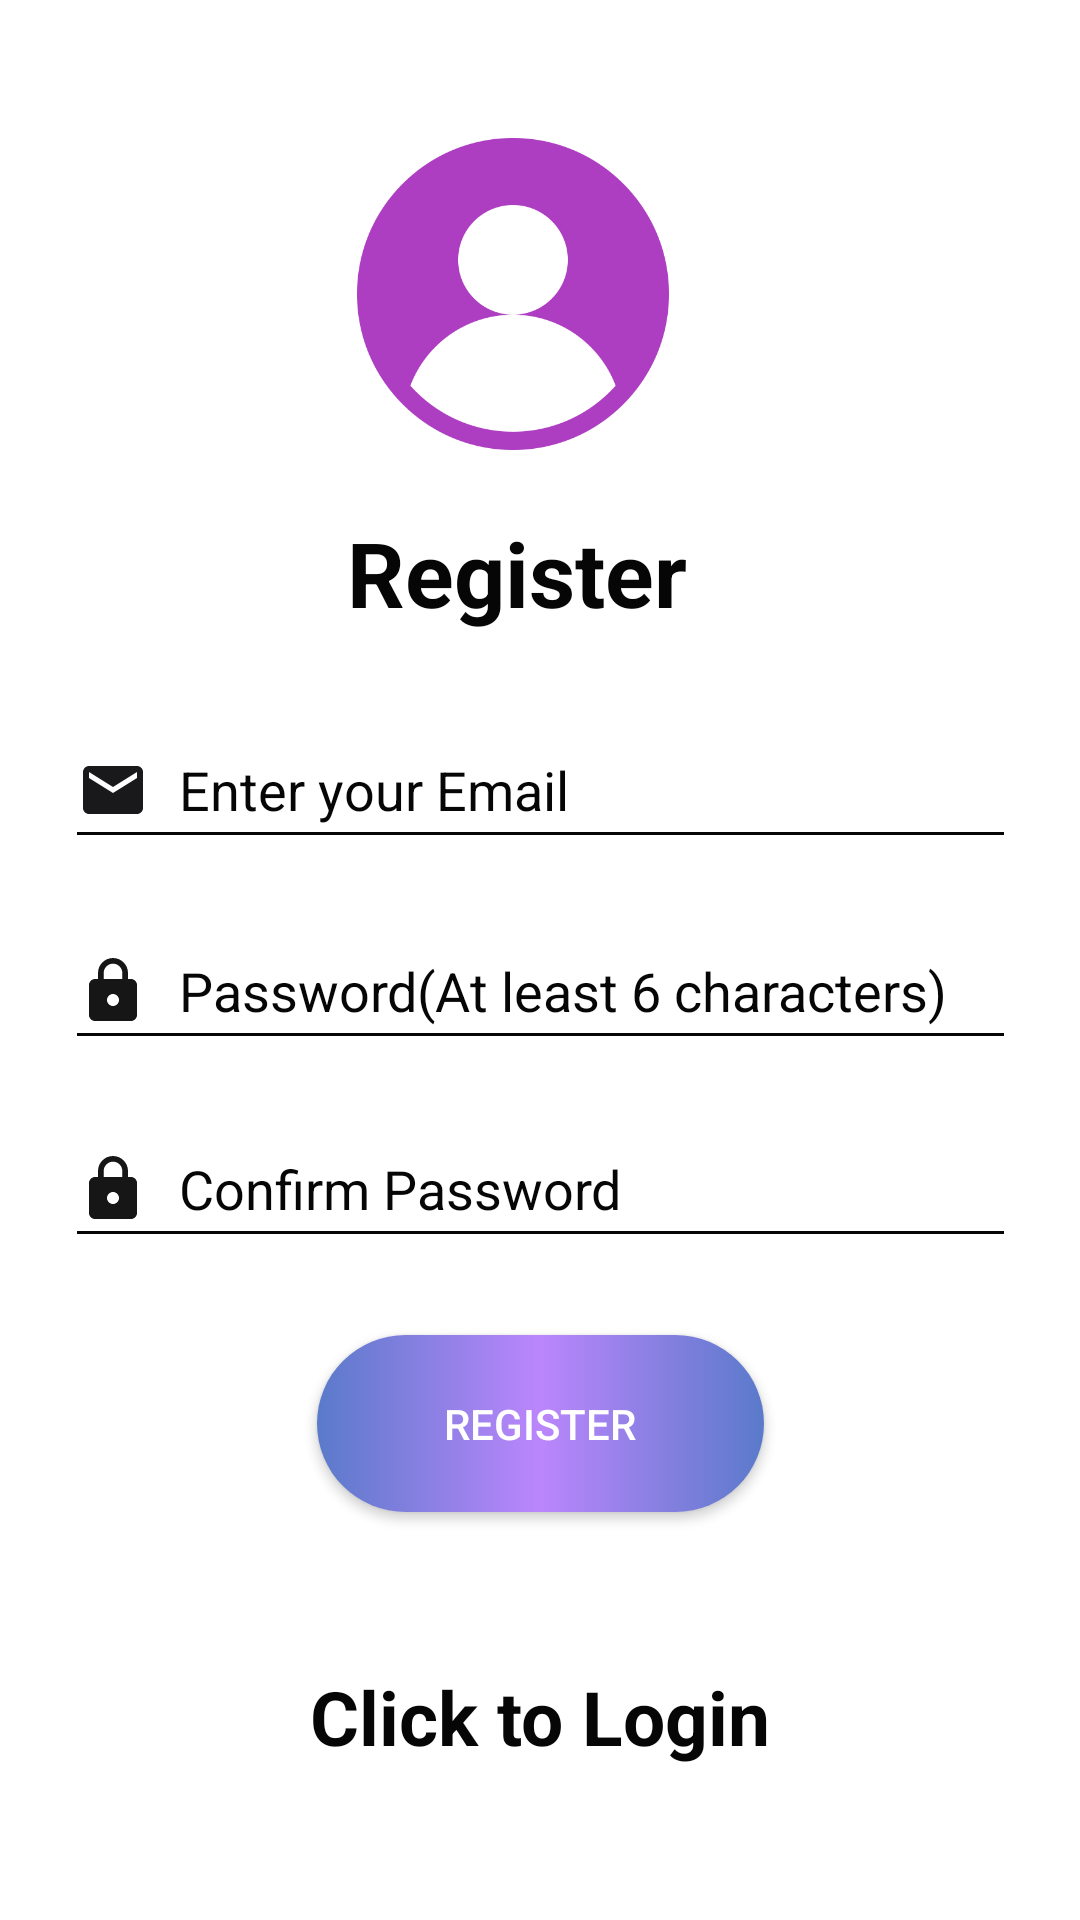

Locate icon controls on the screen. Image size 1080 x 1920, boxes as bbox(x1, y1, x2, y2).
user: bbox(357, 138, 669, 450)
